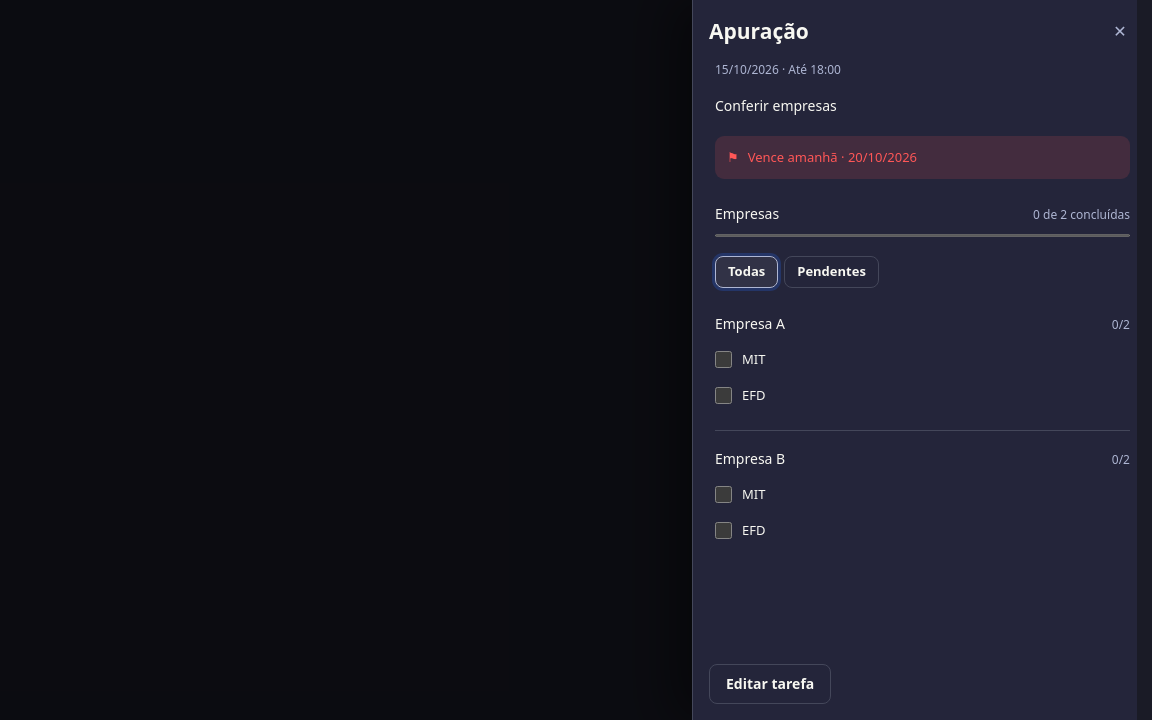
Test case: checklists pertencem a cada empresa; conclusão risca somente a empresa correspondente
Click the checkbox labelled "MIT" below "Empresa A" at (724, 359), box [715, 351, 732, 368]
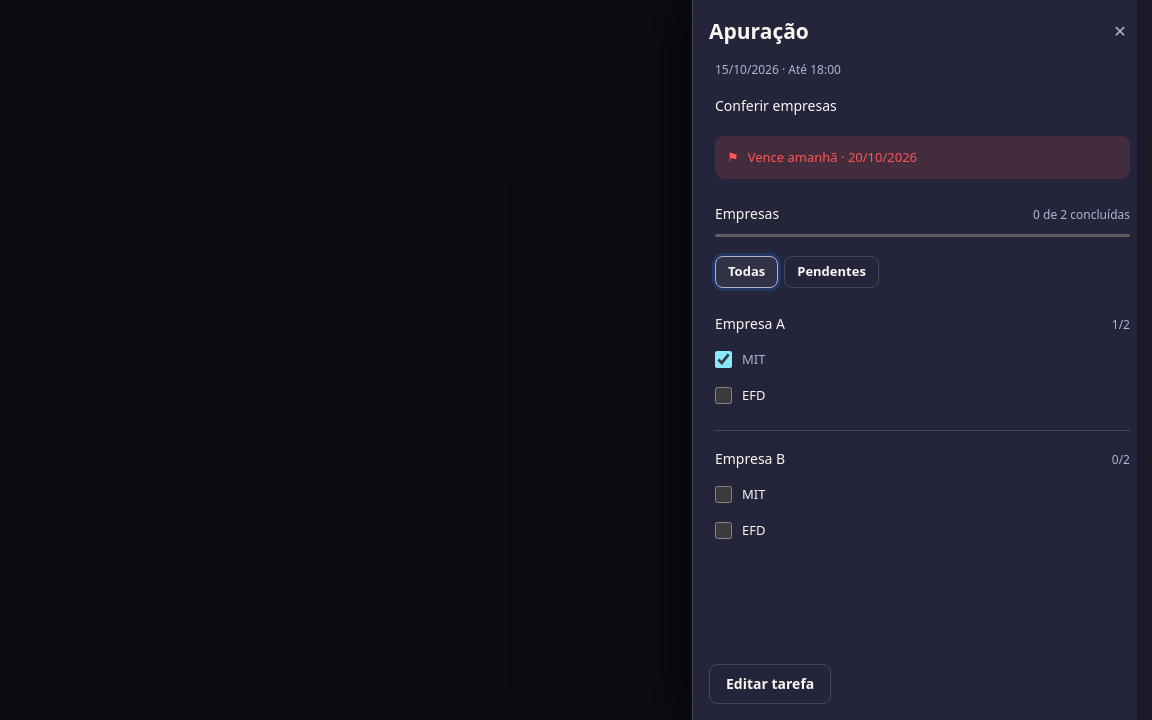
Click the checkbox labelled "EFD" below "Empresa A" at (724, 395), box [715, 387, 732, 404]
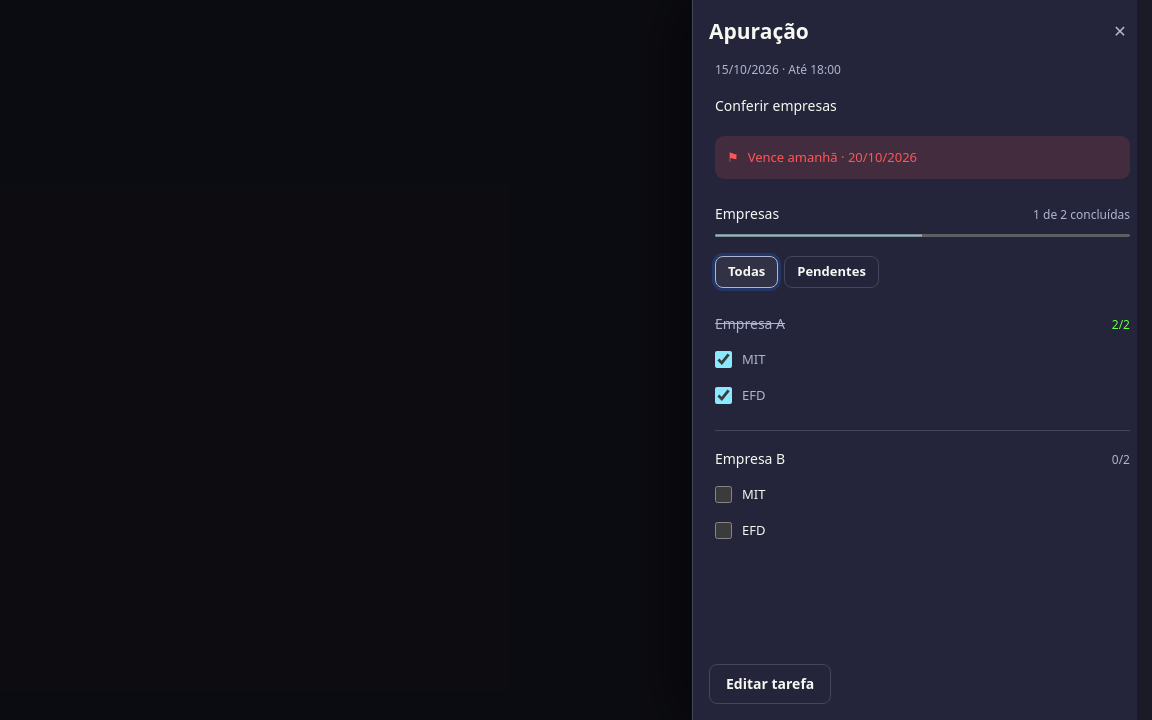
Expected: the checkbox labelled "MIT" below "Empresa B" is not checked, [715, 486, 732, 503]
Now the text "1 de 2 concluídas" is shown, box [1033, 206, 1130, 224]
Click the button "Pendentes" at (832, 272), box [784, 256, 879, 288]
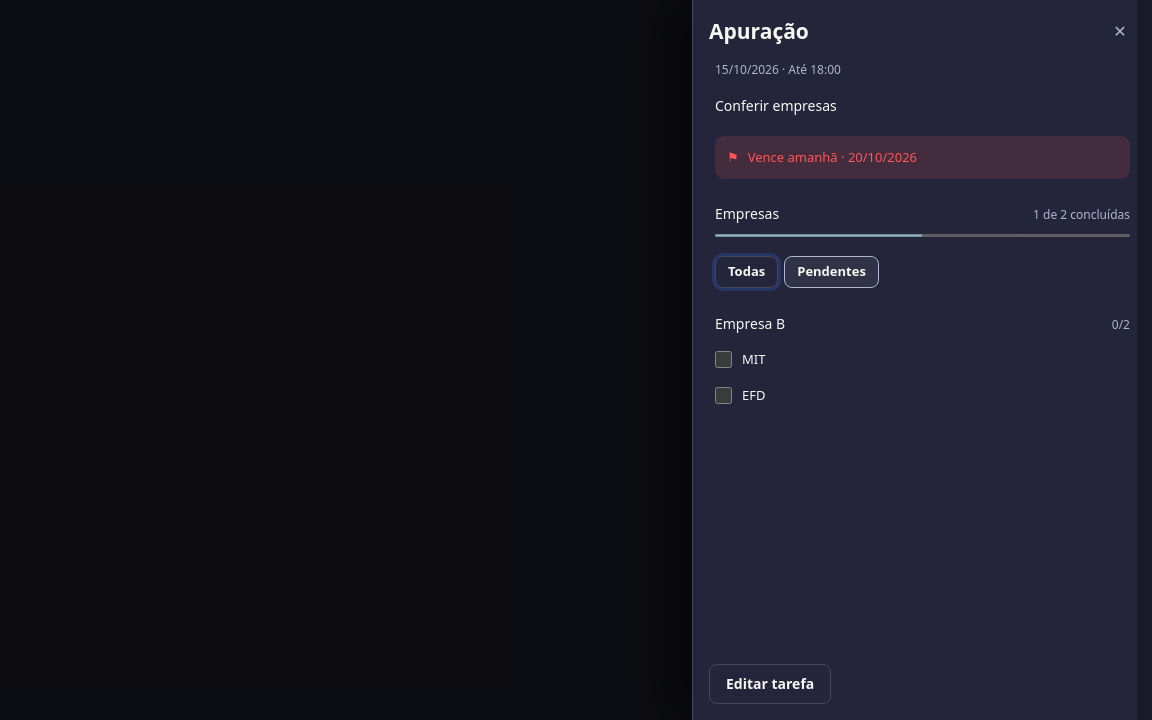
Expected: the element "Empresa B" is shown, [715, 296, 1130, 430]
Now the text "Empresa A" is gone
